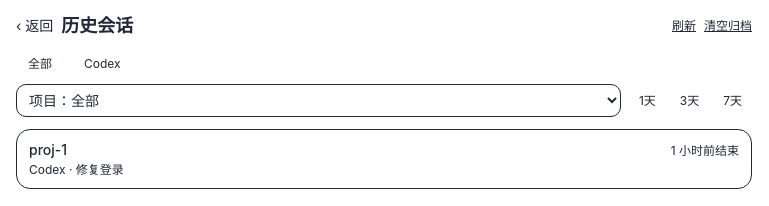
Test: ArchiveBoard：历史页 › 有筛选时空态改显「当前筛选无匹配会话」，不误导扩窗
Expected: the text "proj-1" is shown, x1=29 y1=140 x2=67 y2=160
# 真实路径构造「有筛选 + 空」组合：选定项目后切小窗，新窗口不含该项目
Select "proj-1" in the dropdown named "按项目筛选" at (318,100), box x1=16 y1=84 x2=621 y2=117
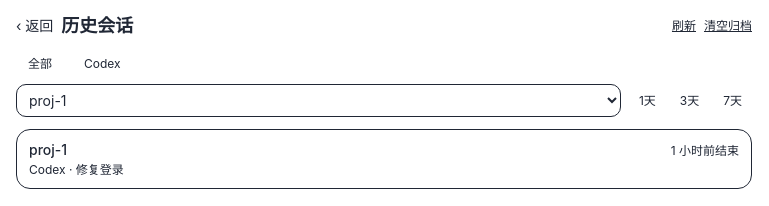
Click the button with test id "archive-days-7" at (733,100), box x1=713 y1=84 x2=752 y2=117
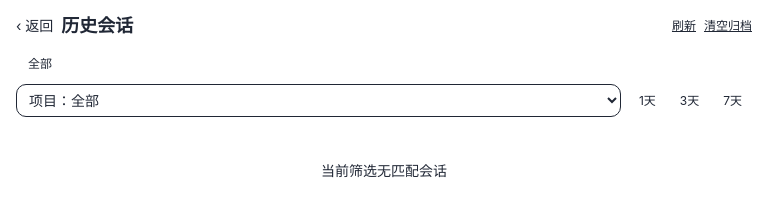
Expected: the text "当前筛选无匹配会话" is shown, x1=321 y1=162 x2=447 y2=179
